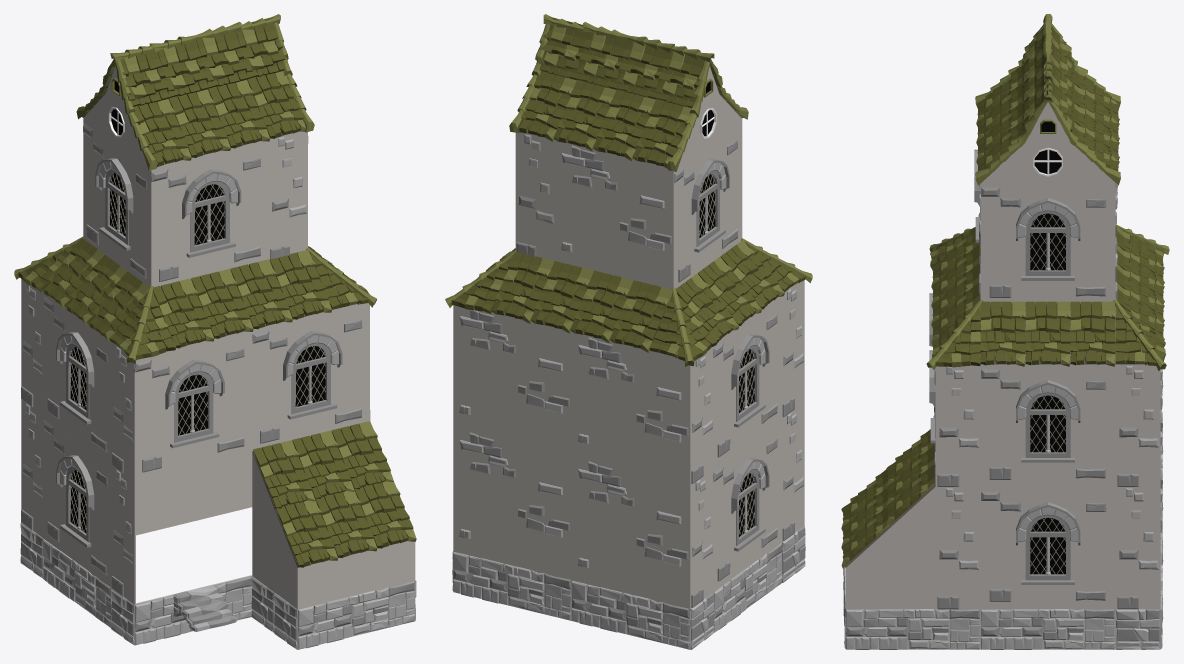
File: HOUSE_2_PARTS.fbx
The picture shows the model from 3 angles, left to right: view 1: azimuth 30°, elevation 25°; view 2: azimuth 150°, elevation 25°; view 3: azimuth 270°, elevation 25°; orthographic projection.
Parts seen in each view (by area): view 1: WINDOW_03_20, WINDOW_03_21, WINDOW_03_22, WINDOW_03_25, WINDOW_03_23, WINDOW_03_24, FOUNDATION_03_3, WALL_06_11, FOUNDATION_03_6, FOUNDATION_03_2, WALL_06_2, FOUNDATION_03_8 (+40 smaller); view 2: WALL_01_2, WALL_01_3, WALL_01_5, WALL_01_4, WALL_01_6, WINDOW_03_25, WINDOW_03_23, WINDOW_03_24, FOUNDATION_03_7, FOUNDATION_03_6, WALL_06_12, WALL_06_3 (+26 smaller); view 3: WINDOW_03_26, WINDOW_03_27, WINDOW_03_28, FOUNDATION_03_5, WALL_06_9, FOUNDATION_03_4, WALL_06_7, WALL_06_8, WALL_06_10, ROOF_BASE_16, ROOF_BASE_17, ROOF_BASE_15 (+37 smaller).
Part boxes in pixels (<box>): WINDOW_03_20: <box>134,331,252,480</box>; WINDOW_03_21: <box>252,303,369,451</box>; WINDOW_03_22: <box>151,141,268,286</box>; WINDOW_03_25: <box>43,415,111,587</box>; WINDOW_03_23: <box>83,118,151,286</box>; WINDOW_03_24: <box>43,294,111,463</box>; FOUNDATION_03_3: <box>297,580,415,649</box>; WALL_06_11: <box>269,131,307,259</box>; FOUNDATION_03_6: <box>140,466,252,534</box>; FOUNDATION_03_2: <box>134,575,252,645</box>; WALL_06_2: <box>111,466,135,604</box>; FOUNDATION_03_8: <box>43,538,111,627</box>; WALL_01_2: <box>572,456,690,608</box>; WALL_01_3: <box>453,427,571,579</box>; WALL_01_5: <box>572,332,691,484</box>; WALL_01_4: <box>453,305,571,455</box>; WALL_01_6: <box>555,140,674,289</box>; WINDOW_03_25: <box>713,418,781,591</box>; WINDOW_03_23: <box>673,119,742,288</box>; WINDOW_03_24: <box>713,296,781,467</box>; FOUNDATION_03_7: <box>571,580,690,649</box>; FOUNDATION_03_6: <box>453,551,571,620</box>; WALL_06_12: <box>515,132,555,261</box>; WALL_06_3: <box>690,468,713,608</box>; WINDOW_03_26: <box>980,486,1115,608</box>; WINDOW_03_27: <box>980,364,1115,486</box>; WINDOW_03_28: <box>980,182,1115,302</box>; FOUNDATION_03_5: <box>980,608,1115,649</box>; WALL_06_9: <box>935,486,980,609</box>; FOUNDATION_03_4: <box>846,608,980,649</box>; WALL_06_7: <box>1115,364,1160,486</box>; WALL_06_8: <box>1115,486,1160,609</box>; WALL_06_10: <box>935,364,980,486</box>; ROOF_BASE_16: <box>1025,301,1070,366</box>; ROOF_BASE_17: <box>1070,301,1115,366</box>; ROOF_BASE_15: <box>980,301,1025,366</box>.
Bounding box in the file's own units: 641 × 1320 × 731.
